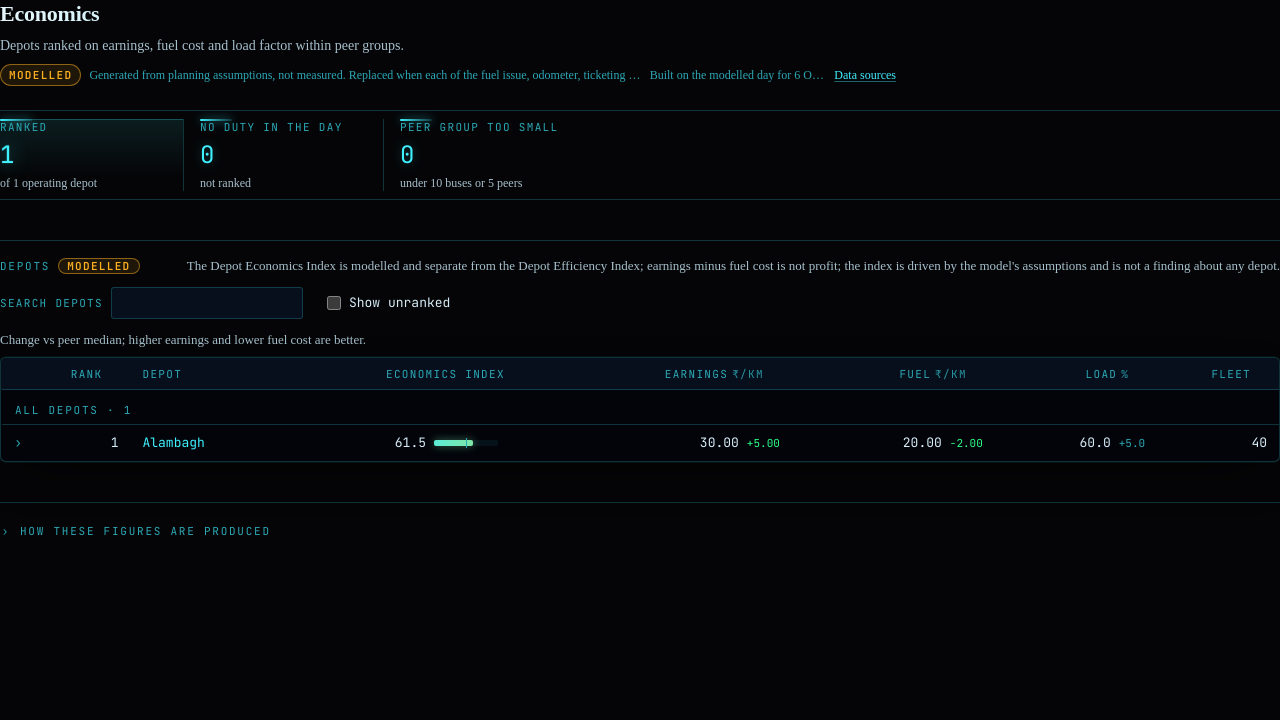
EconomicsPage: the breakdown name, the filter row and plain dates › names the breakdown for its depot, keeps the sign note out of the filter row, and prints no raw date
The width and height of the screenshot is (1280, 720).
Check: the text with test id "depot-economics-table-caption" reads "Change vs peer median; higher earnings and lower fuel cost are better.", box x1=0 y1=332 x2=366 y2=347
Click the button "61.5": (481, 443) x1=386 y1=433 x2=577 y2=453
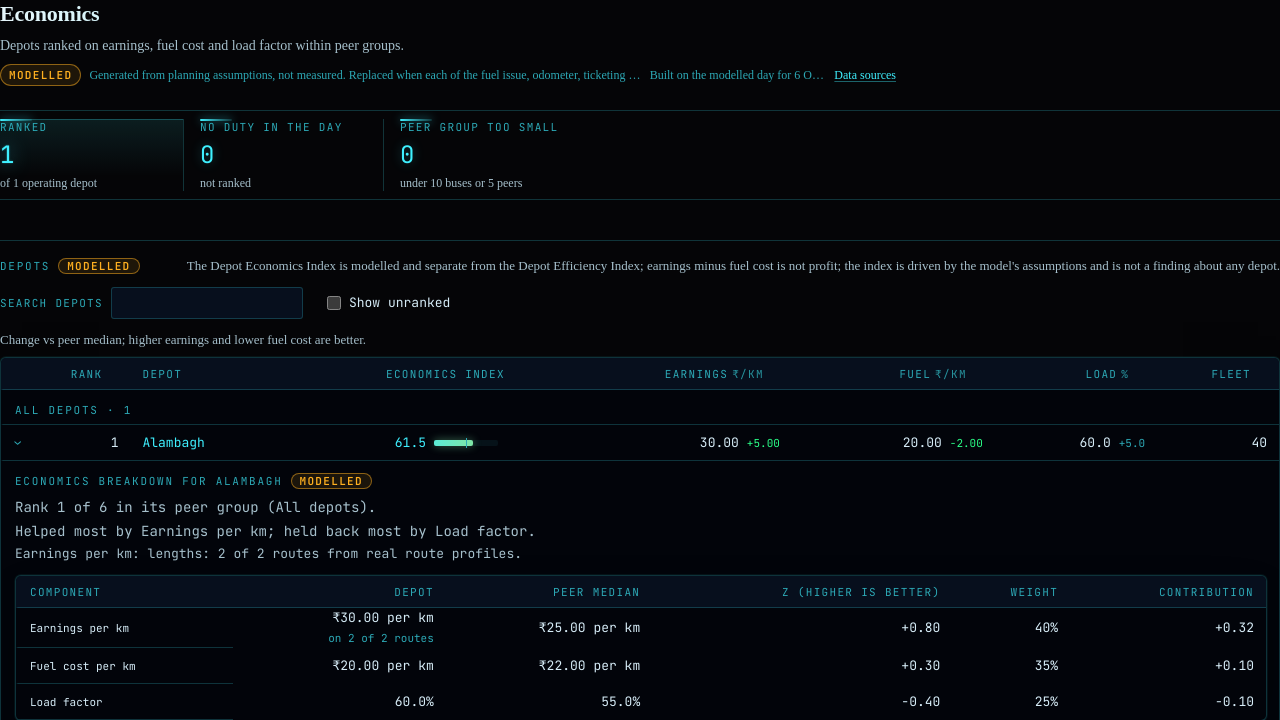
Check: the heading with id "economics-breakdown-title" shows "Economics breakdown for", box x1=15 y1=474 x2=282 y2=488
